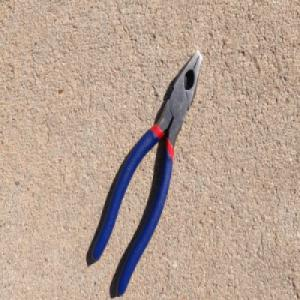Pliers: (90, 47, 203, 298)
